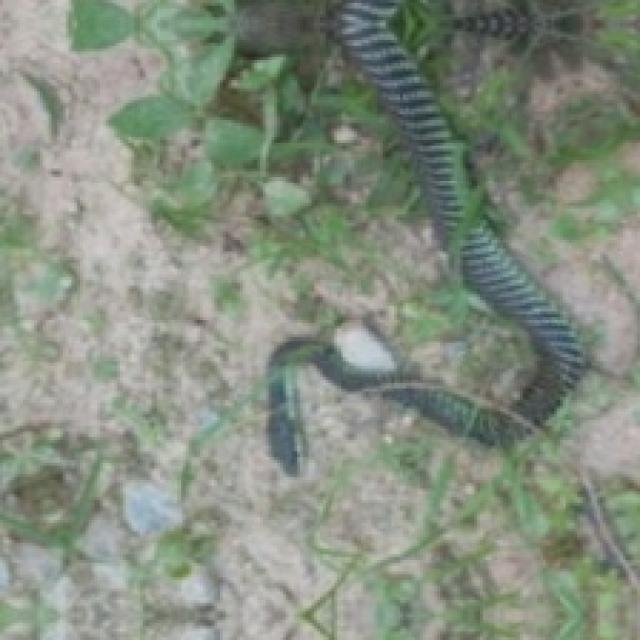paradise tree snake: (311, 0, 583, 443)
